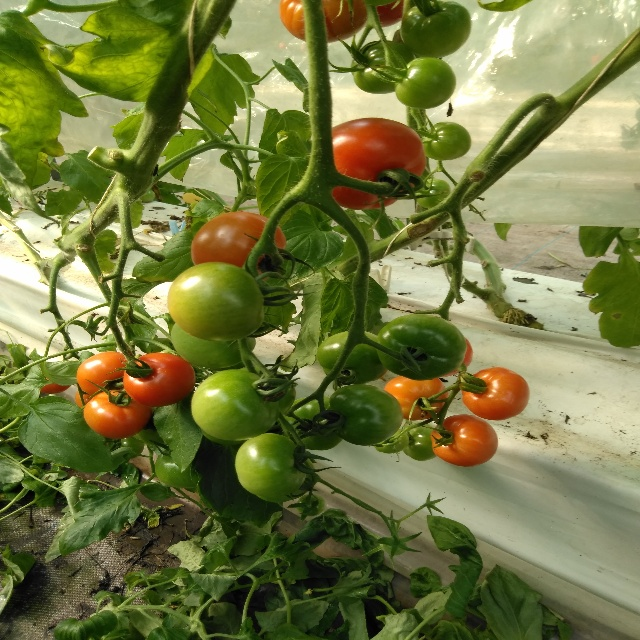l_fully_ripened: (332, 117, 426, 210), (122, 352, 195, 407)
l_green: (167, 262, 265, 342), (191, 369, 280, 441), (376, 314, 467, 382), (326, 383, 403, 446), (234, 433, 308, 498), (400, 0, 471, 58), (170, 322, 256, 368), (316, 331, 389, 385), (350, 40, 417, 94), (280, 395, 343, 450), (393, 56, 456, 109), (236, 366, 297, 416), (257, 455, 316, 502), (420, 121, 472, 161), (154, 448, 195, 489), (402, 421, 436, 461), (414, 178, 451, 209), (374, 429, 409, 453), (296, 494, 325, 517)
l_half_ripened: (191, 211, 285, 283), (278, 1, 367, 44), (462, 367, 529, 421), (431, 414, 499, 467), (84, 390, 151, 440), (383, 376, 449, 420), (77, 351, 133, 396)
